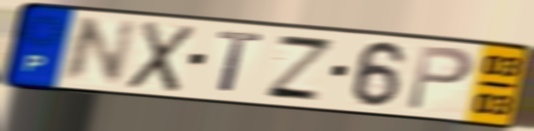6: (349, 38, 410, 110)
N: (56, 16, 140, 85)
P: (403, 43, 477, 114)
T: (216, 28, 267, 96)
X: (123, 18, 200, 95)
Z: (261, 32, 339, 104)
